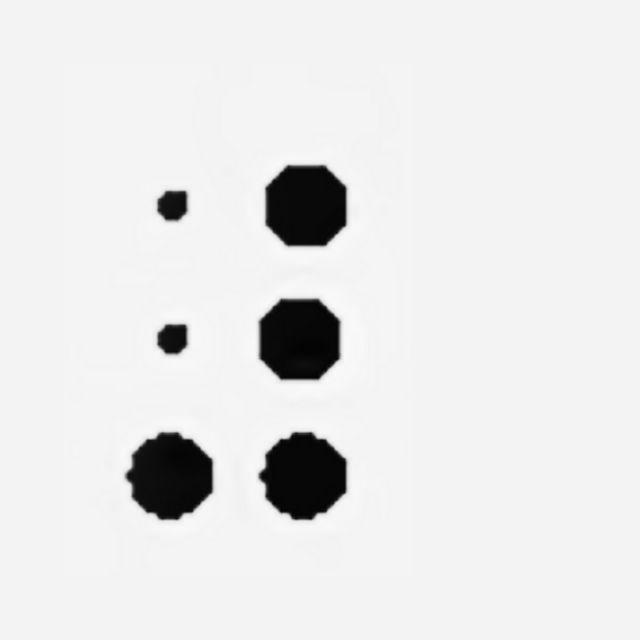at: (123, 163, 347, 525)
